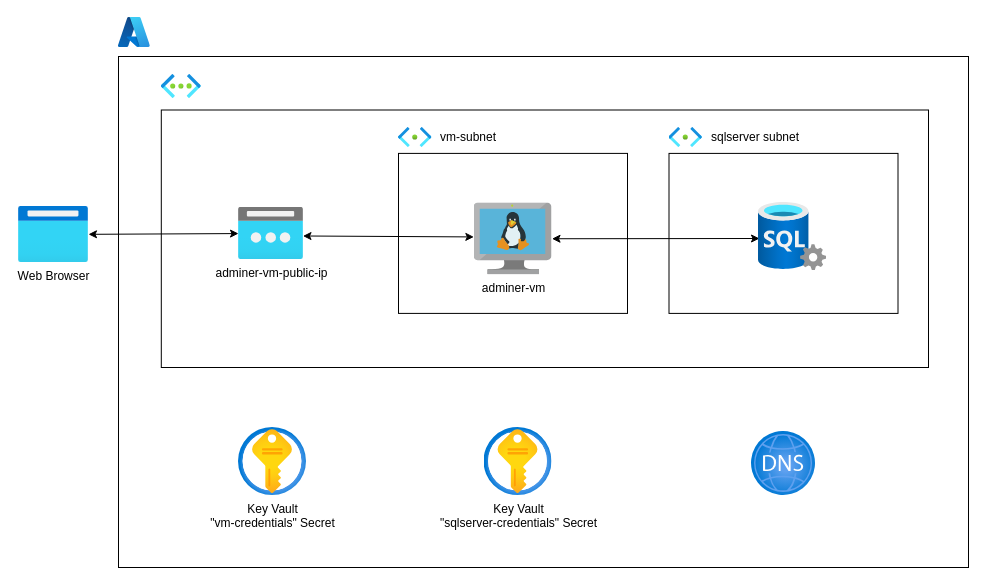
This 986x585 diagram has some shape labels left out. Here are the shapes that lost their labels. From the top down, the centre of each, then its label:
the point at 134,32: Azure Cloud - US Central Region
the point at 181,86: Virtual Network - sqlserver-vnet
the point at 792,236: sqlserver-instance
the point at 783,463: internal.sqlserver-zone.local
